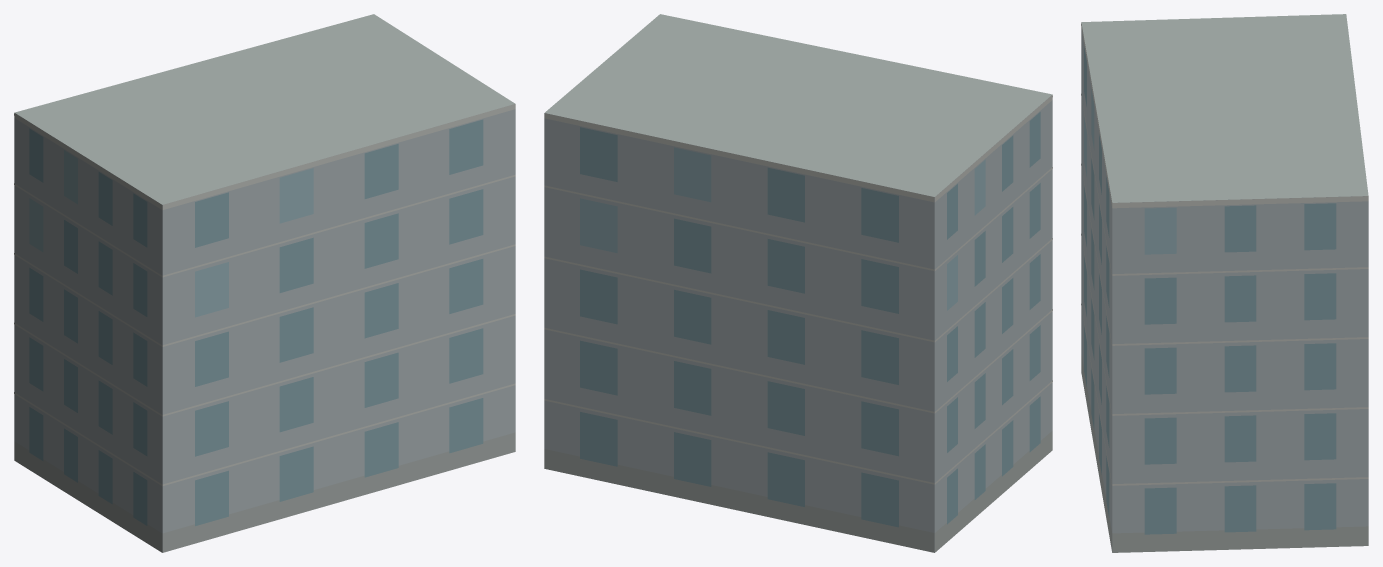
Rendered from survey-upis-32748070.glb.
The picture shows the model from 3 angles, left to right: view 1: azimuth 30°, elevation 25°; view 2: azimuth 150°, elevation 25°; view 3: azimuth 270°, elevation 25°; orthographic projection. The views are drawn at different scales.
Visible parts, largest first — view 1: survey-upis-32748070.tmp; view 2: survey-upis-32748070.tmp; view 3: survey-upis-32748070.tmp.
Part boxes in pixels (x1,y1,x2,y2): survey-upis-32748070.tmp: [14, 14, 515, 552]; survey-upis-32748070.tmp: [544, 14, 1052, 552]; survey-upis-32748070.tmp: [1081, 14, 1368, 552].
Size of the model in its own units: 18.55 by 16 by 11.93.
